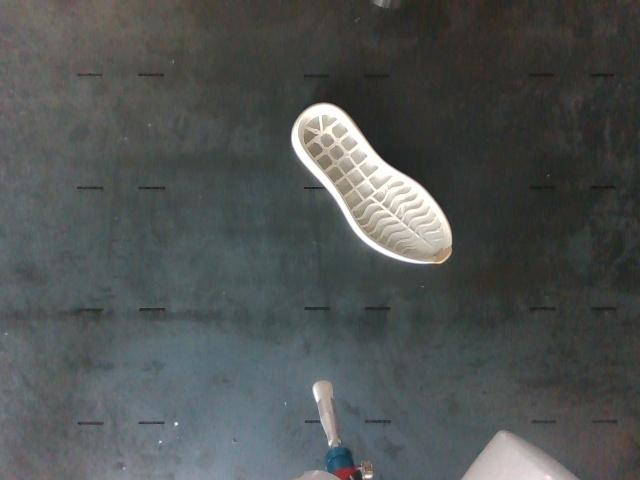shoes: (297, 103, 451, 262)
